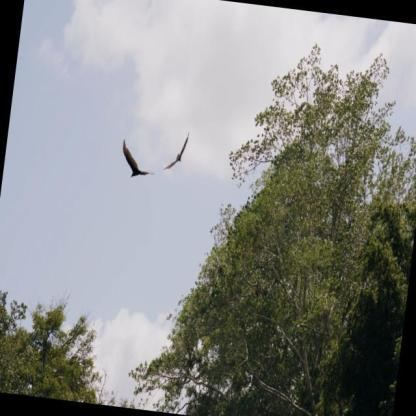bird: (119, 138, 160, 181), (162, 128, 190, 174)
